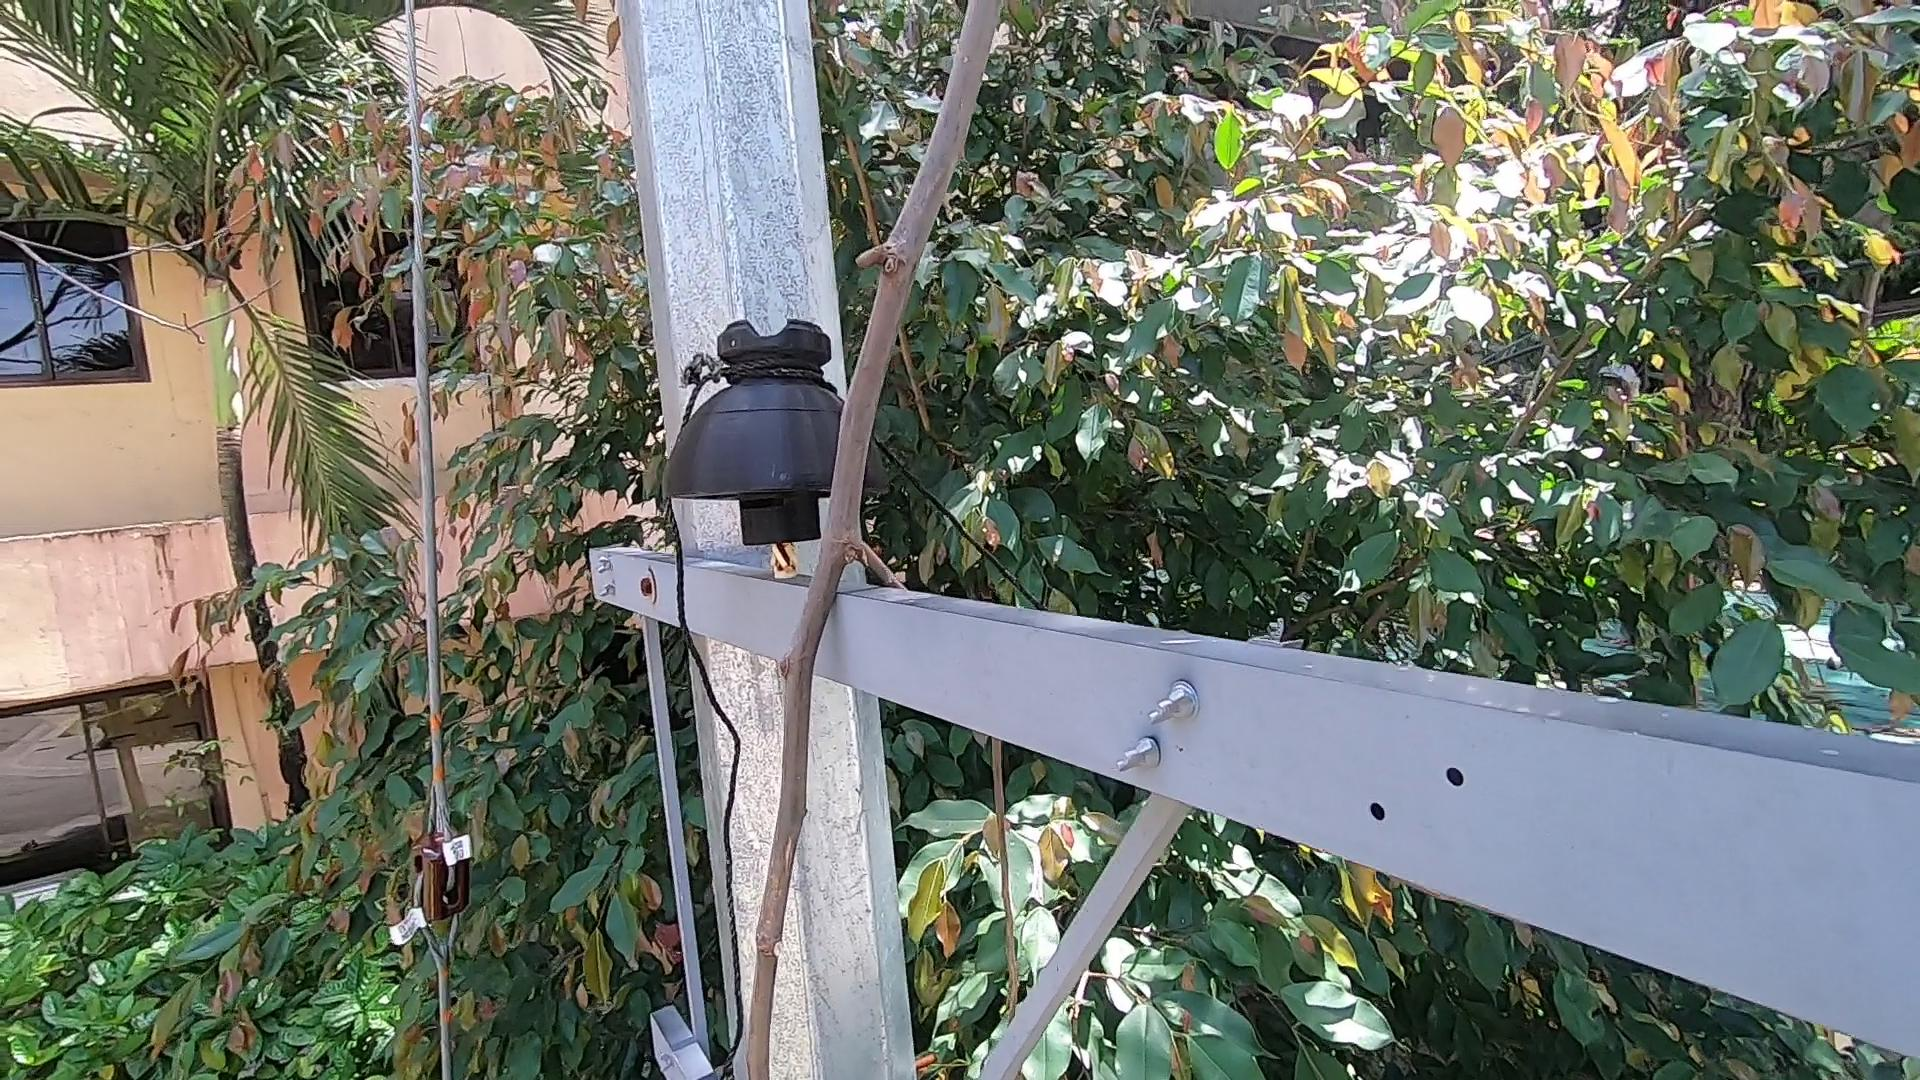tree branch: (702, 15, 1067, 1080)
